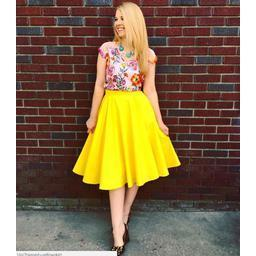Tshirt: (98, 40, 158, 92)
skirt: (73, 88, 182, 190)
